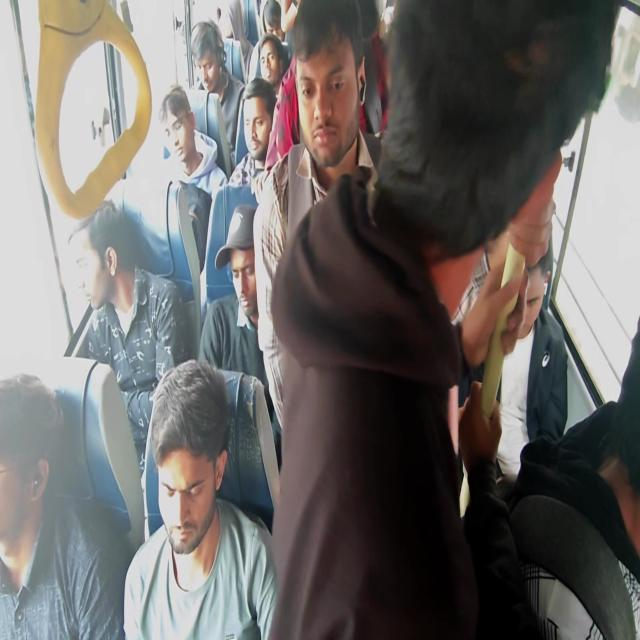person: (398, 2, 548, 276), (291, 42, 413, 268), (65, 206, 169, 369), (0, 386, 65, 592), (238, 227, 298, 428), (158, 397, 228, 561), (507, 199, 572, 372), (605, 355, 640, 640), (236, 99, 291, 192), (148, 87, 200, 170), (188, 24, 225, 88), (251, 34, 285, 88), (216, 0, 249, 49), (260, 9, 282, 38)
